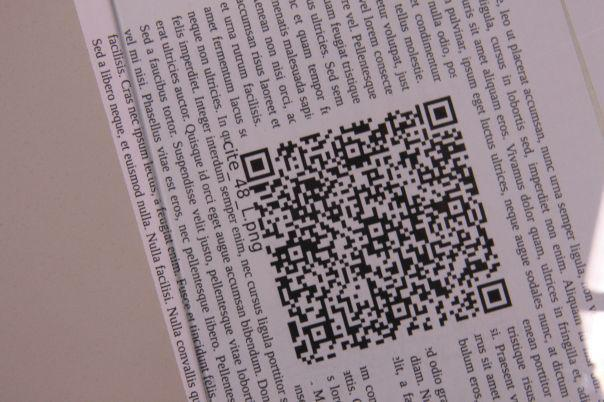qr_code: (240, 95, 513, 367)
